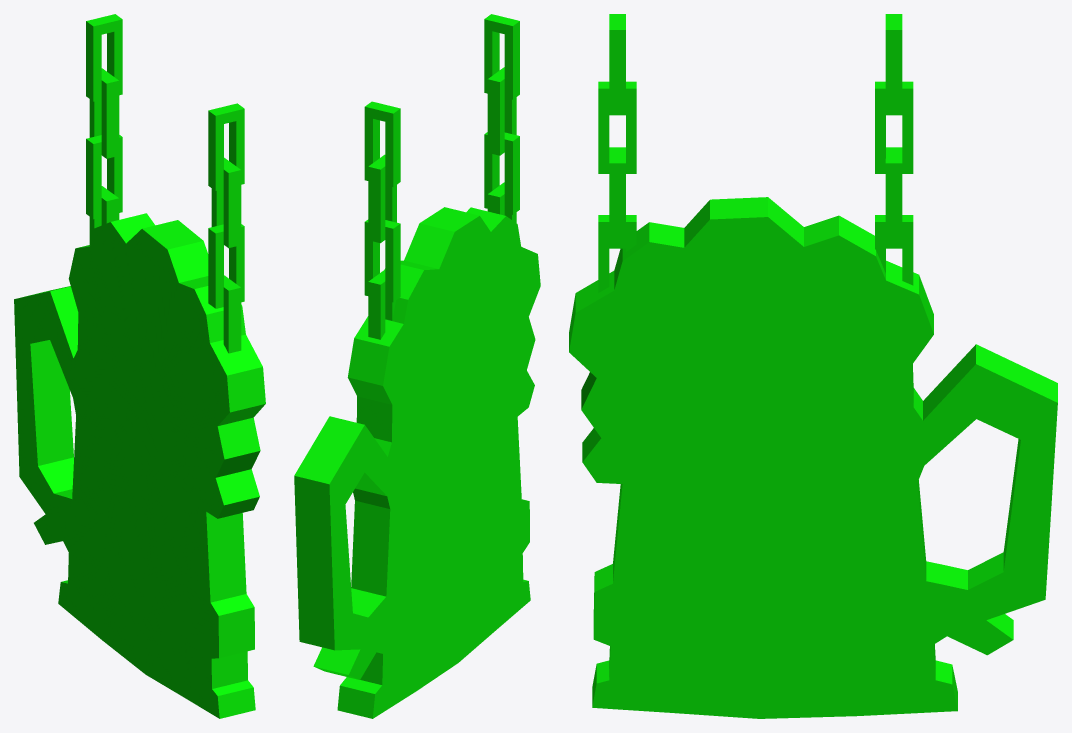
The model's file is SM_Signboard_Pub_B_Fantasy.fbx.
The picture shows the model from 3 angles, left to right: view 1: azimuth 30°, elevation 25°; view 2: azimuth 150°, elevation 25°; view 3: azimuth 270°, elevation 25°; orthographic projection. The views are drawn at different scales.
Parts seen in each view (by area): view 1: signboard-pub-b-fantasy; view 2: signboard-pub-b-fantasy; view 3: signboard-pub-b-fantasy.
Boxes of the visible parts, x1,y1,x2,y2 form: signboard-pub-b-fantasy: [14, 14, 265, 718]; signboard-pub-b-fantasy: [294, 14, 540, 718]; signboard-pub-b-fantasy: [569, 14, 1057, 718].
Size of the model in its own units: 0.0826 by 1.33 by 0.8566.
